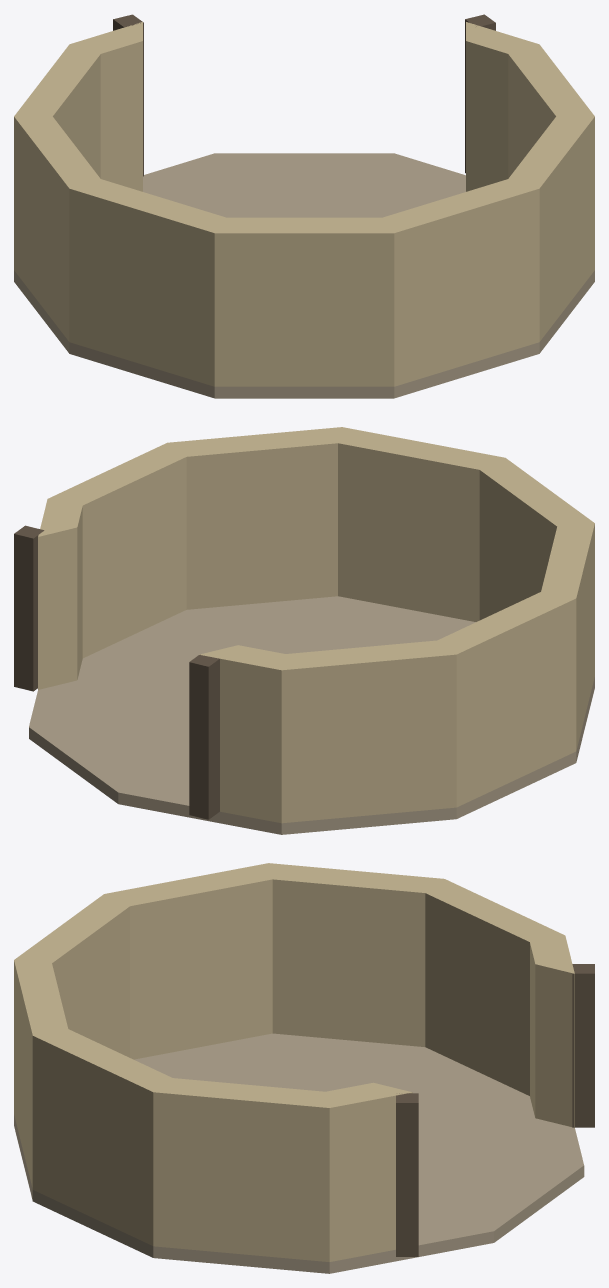
File: Town_Windmill.fbx
3 renders of one model, top to bottom at view 1: azimuth 30°, elevation 25°; view 2: azimuth 150°, elevation 25°; view 3: azimuth 270°, elevation 25°, orthographic.
Parts seen in each view (by area): view 1: OpenBuildings_Town_Windmill; view 2: OpenBuildings_Town_Windmill; view 3: OpenBuildings_Town_Windmill.
Part boxes in pixels (x1,y1,x2,y2): OpenBuildings_Town_Windmill: (14,14,594,398); OpenBuildings_Town_Windmill: (14,427,594,834); OpenBuildings_Town_Windmill: (14,863,594,1273).
Size of the model in its own units: 3.58 by 1.13 by 3.59.
